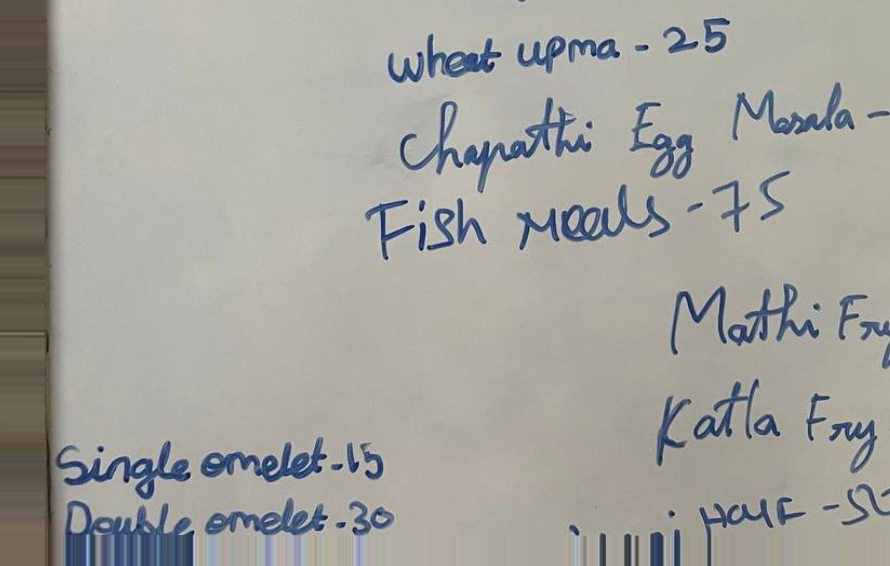chapathi egg masala - 93: (395, 89, 890, 176)
double omelet - 30: (60, 487, 399, 540)
fish Meals - 75: (363, 172, 800, 263)
katla fry - 60: (652, 378, 890, 471)
mathi fry - 50: (664, 276, 890, 372)
single omelet - 15: (55, 434, 389, 496)
wheat upma - 25: (383, 15, 734, 85)
